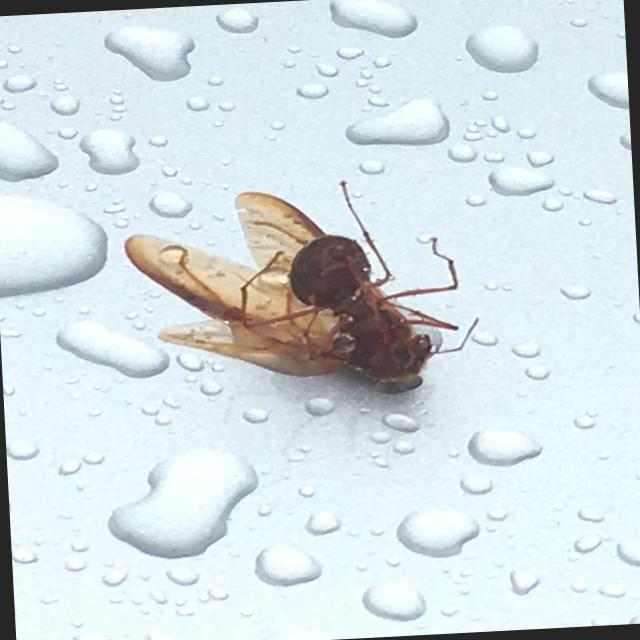Dead-Female-Alate: (118, 169, 484, 407)
